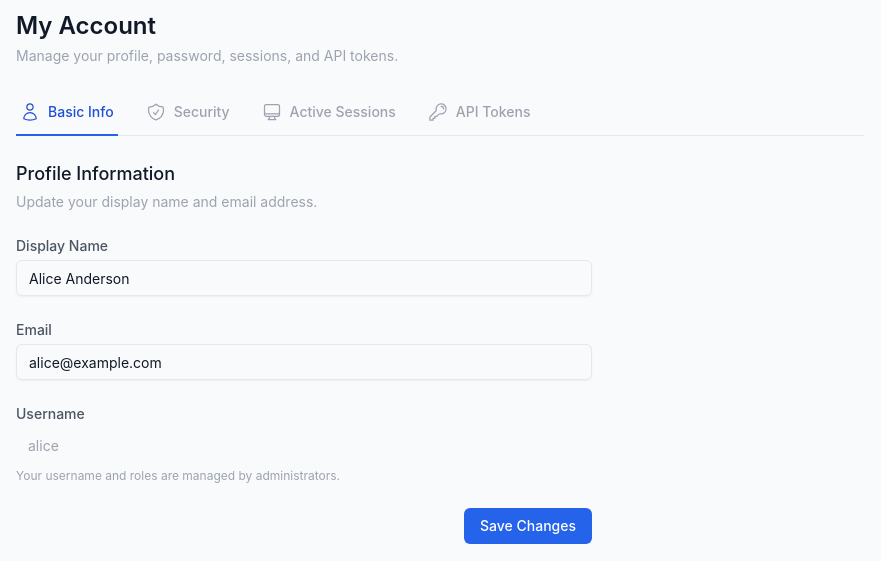
Test: ProfilePage — Active Sessions tab › shows an empty state with no sessions
This screenshot has width=881, height=561.
What coordinates should you click on to do the following:
click the button "Active Sessions"
I would click on:
 (329, 113)
Its box is x1=258 y1=90 x2=400 y2=136.
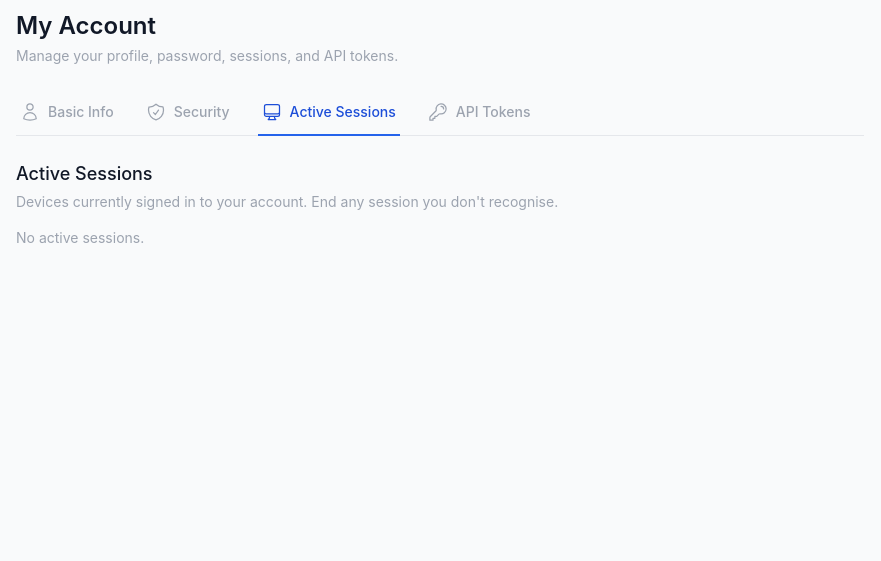
Now the text "No active sessions." is shown, box x1=16 y1=229 x2=144 y2=246
